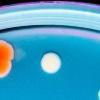orange: (0, 36, 16, 63), (0, 58, 13, 79)
white: (39, 50, 64, 76), (93, 87, 100, 100)
